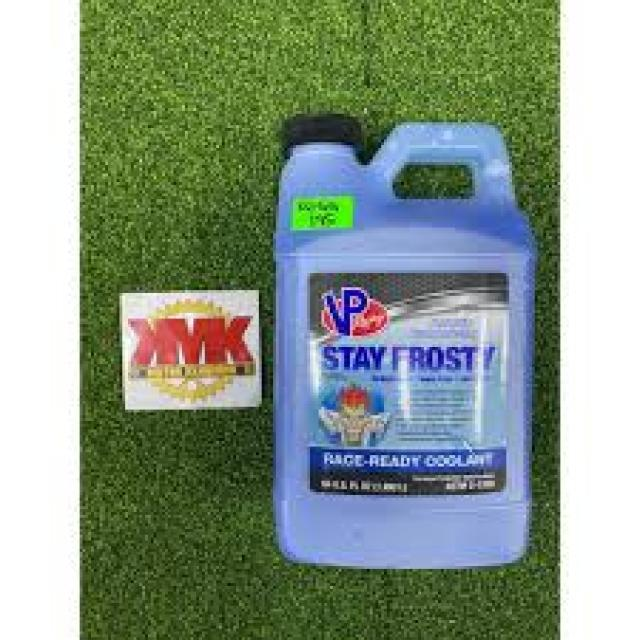coolant: (266, 113, 545, 577)
